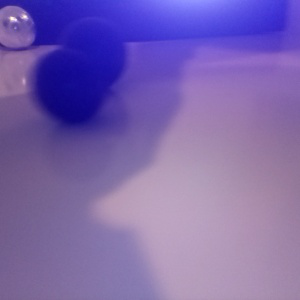alive_ball: (1, 5, 36, 48)
dead_ball: (30, 50, 105, 121), (59, 18, 125, 84)
